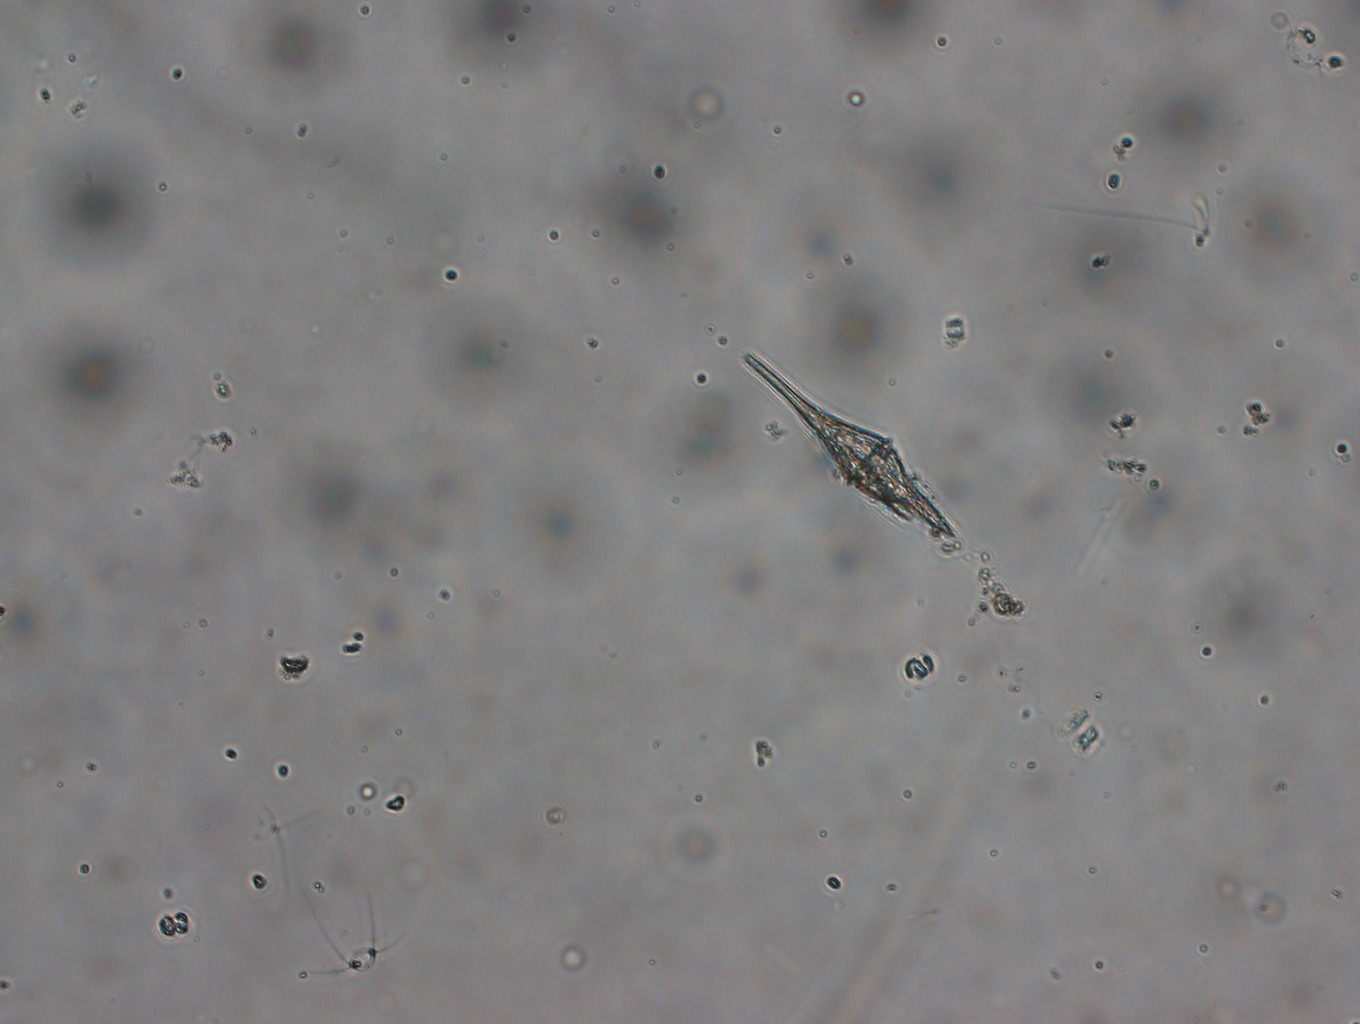ceratium furca: (736, 349, 958, 543)
